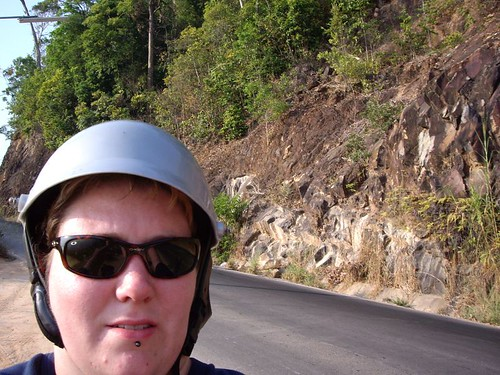helmet: (9, 120, 231, 215)
